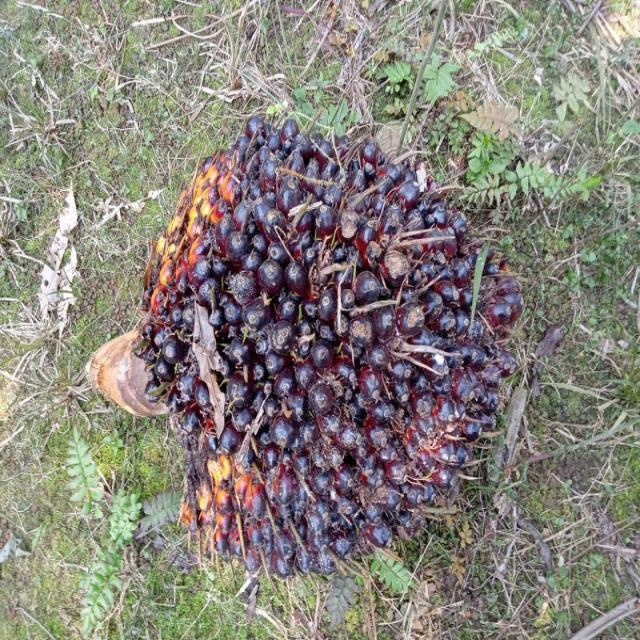fraksi 00: (133, 121, 524, 578)
